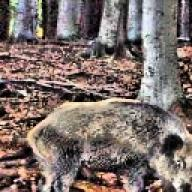boar: (25, 96, 192, 192)
